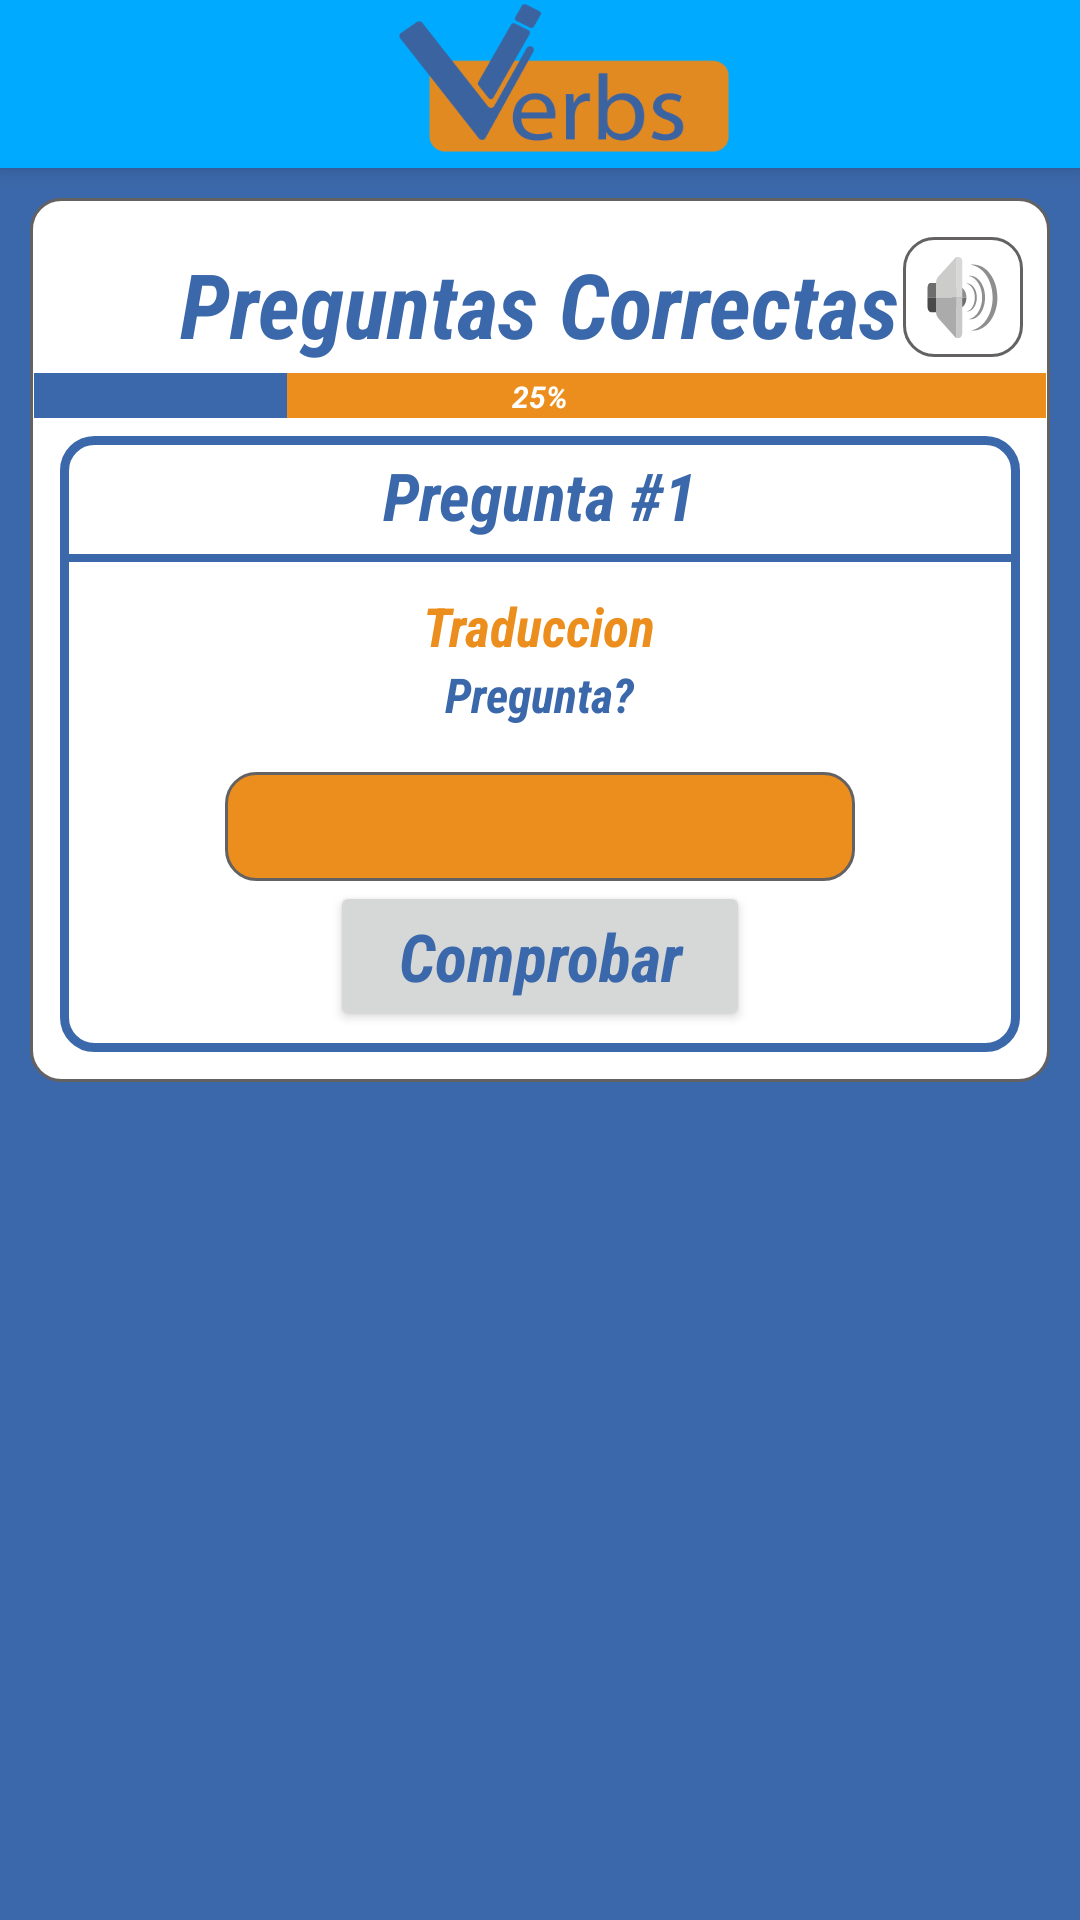

Icon click points for this 1080w x 1920h phone screenshot, format (x=x, y=y):
song: (x=962, y=297)
